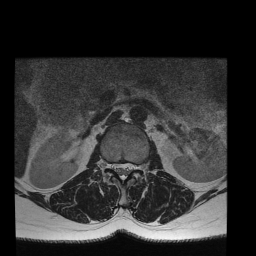CCS_normal: (119, 155, 125, 189)
LFS_stenosis: (133, 157, 141, 175)
LLS_normal: (125, 156, 133, 180)
RFS_normal: (106, 154, 112, 175)
RLS_normal: (112, 156, 119, 179)
